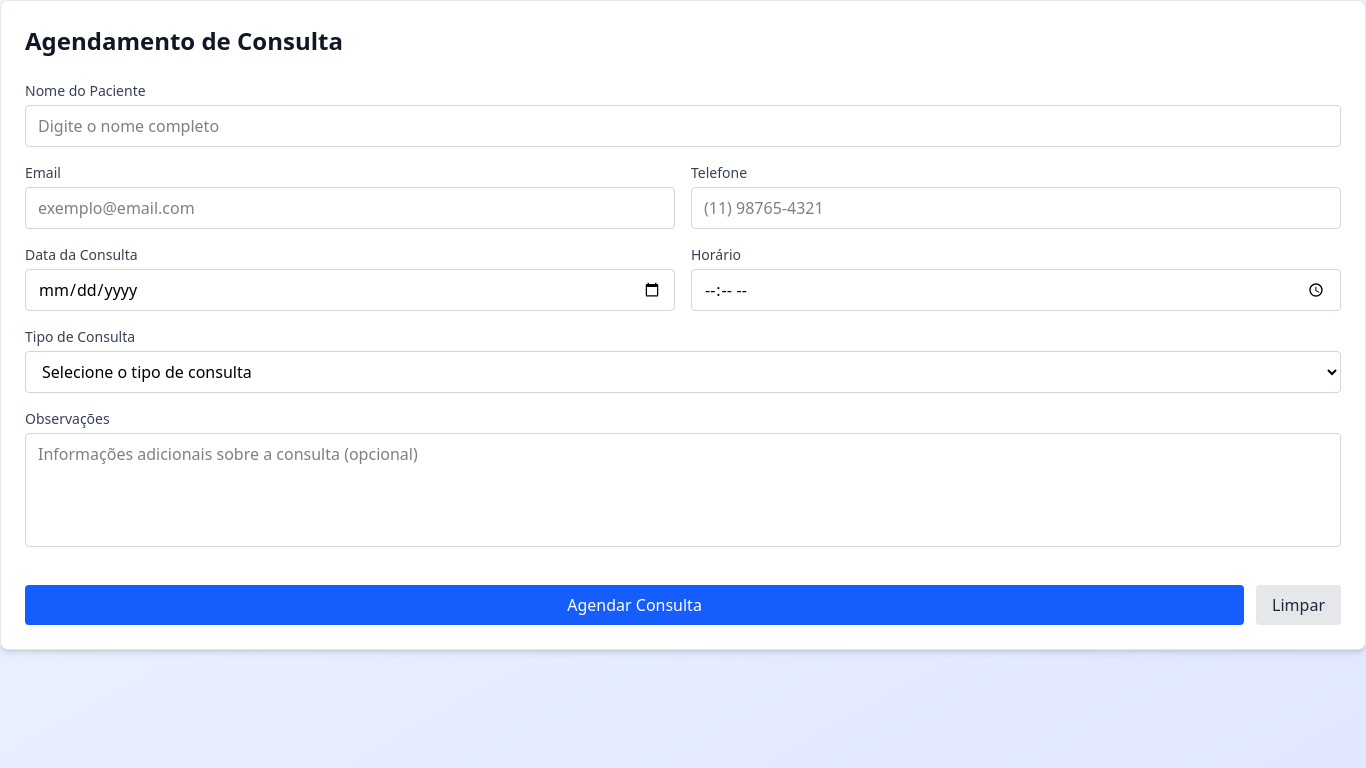
Test: AppointmentForm › Validation - Patient Name › should show error when patient name is empty
The width and height of the screenshot is (1366, 768).
Click the button "Agendar Consulta".
click(635, 605)  # box 25,585 -> 1244,625
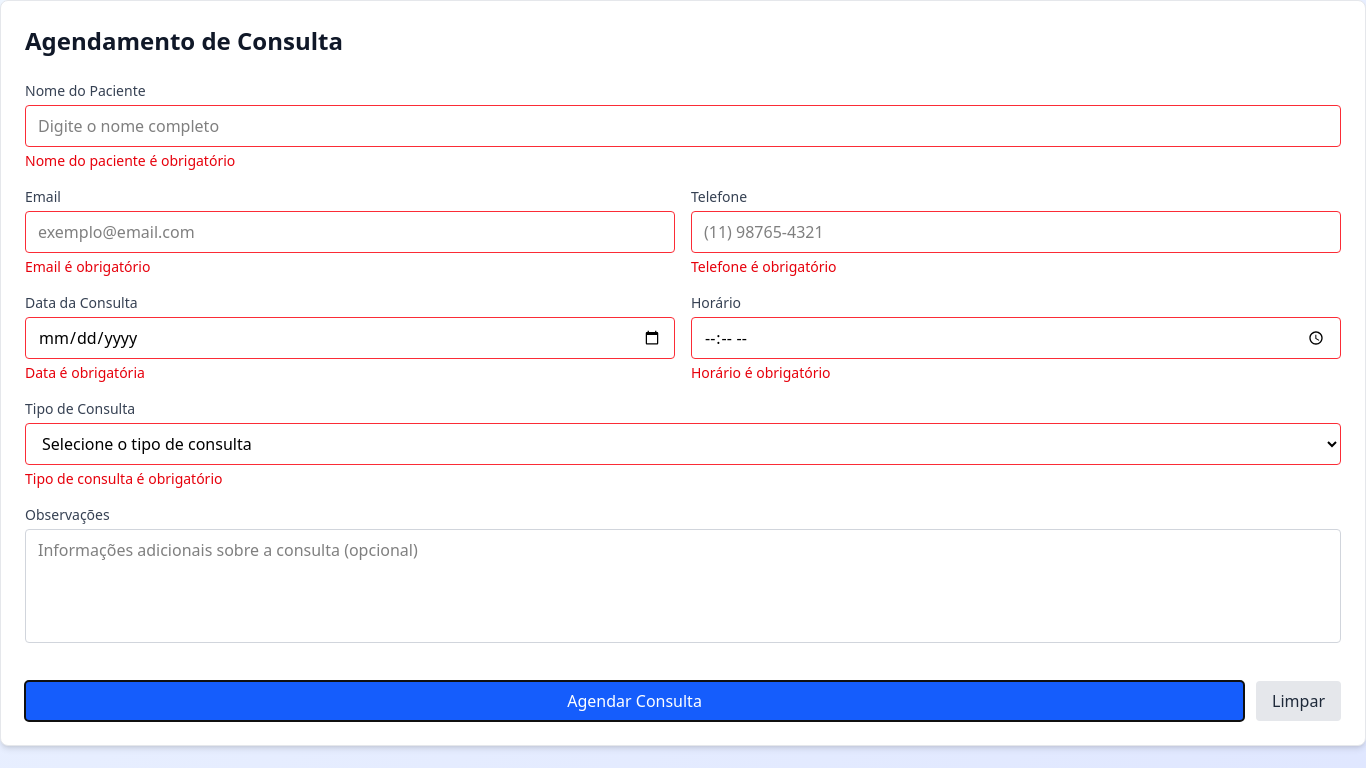
Expected: the text "Nome do paciente é obrigatório" is shown, 25,151 -> 235,170
